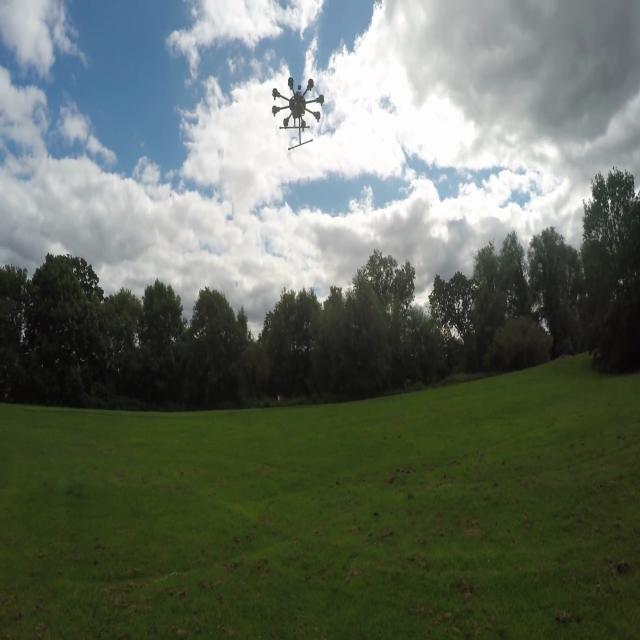drone: (260, 56, 326, 175)
